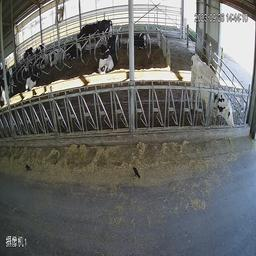cow: (186, 39, 238, 139), (93, 38, 116, 78), (22, 59, 41, 92), (134, 22, 150, 54), (69, 40, 87, 63), (51, 43, 67, 67), (93, 16, 113, 35), (34, 40, 50, 59), (78, 17, 92, 35)
